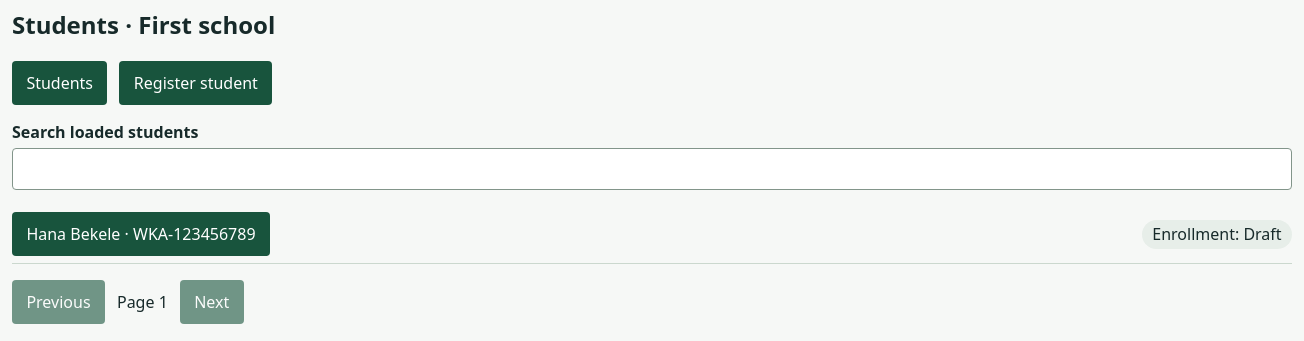
Test: student workspace › filters the loaded page by name or reference
Expected: the button "Hana Bekele · WKA-123456789" is shown, [12,212,270,256]
Type "no match" into the field labelled "Search loaded students" at (652, 169), box [12,148,1292,190]
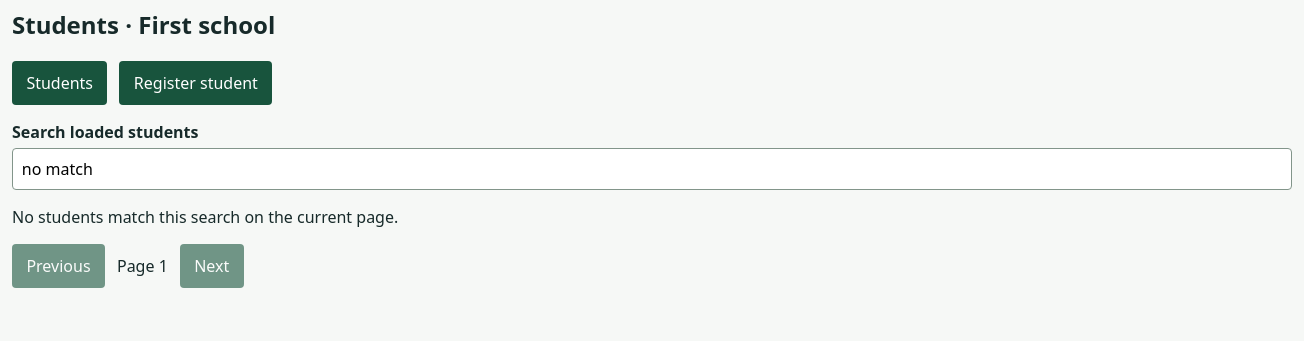
Expected: the text "No students match this search on the current page." is shown, [12,206,398,228]
Replace the text in the field labelled "Search loaded students" with "WKA-123456789" at (652, 169), box [12,148,1292,190]
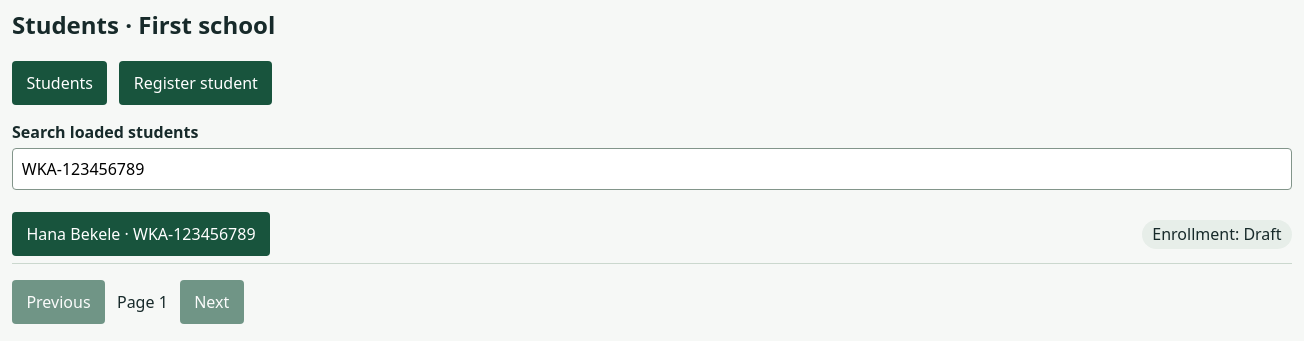
Expected: the button "Hana Bekele · WKA-123456789" is shown, [12,212,270,256]
